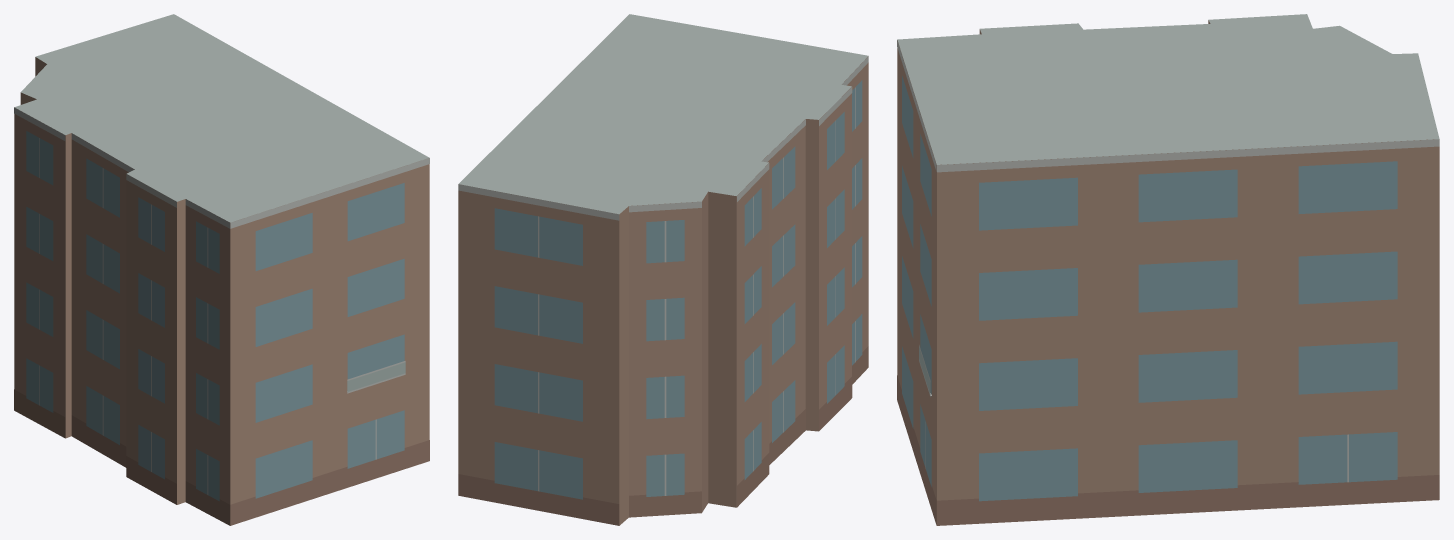
The model's file is survey-upis-32746224.glb.
The picture shows the model from 3 angles, left to right: view 1: azimuth 30°, elevation 25°; view 2: azimuth 150°, elevation 25°; view 3: azimuth 270°, elevation 25°; orthographic projection. The views are drawn at different scales.
Visible parts, largest first — view 1: survey-upis-32746224.tmp; view 2: survey-upis-32746224.tmp; view 3: survey-upis-32746224.tmp.
Boxes of the visible parts, box(x1,y1,x2,y2) form: survey-upis-32746224.tmp: box(14, 14, 429, 525); survey-upis-32746224.tmp: box(458, 14, 868, 525); survey-upis-32746224.tmp: box(897, 14, 1439, 525).
Bounding box in the file's own units: 10.64 × 11.85 × 16.15.
